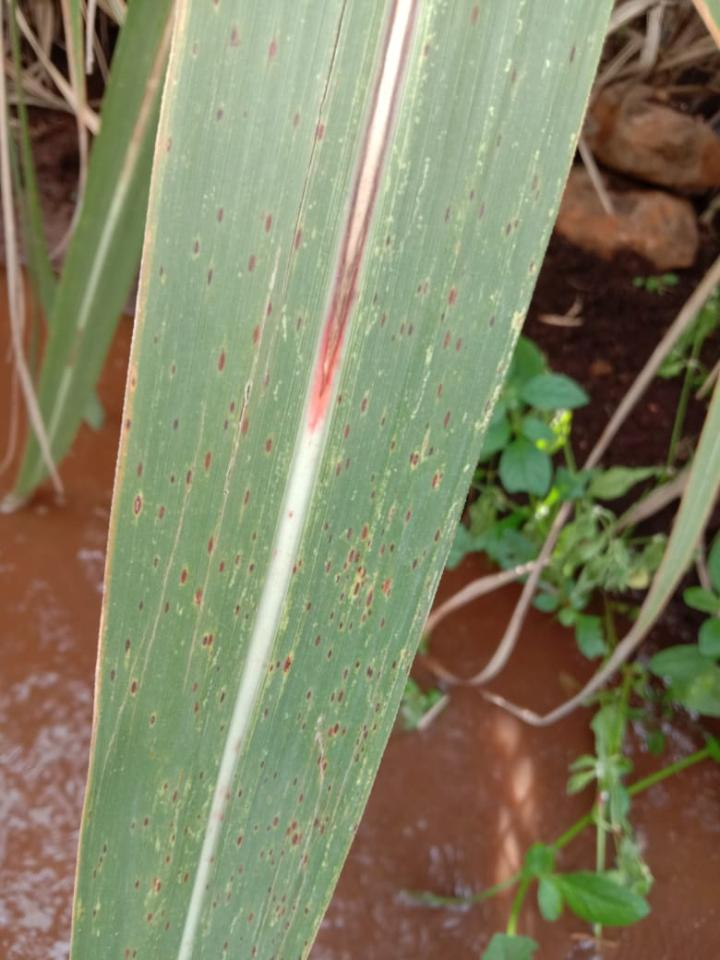RedRot: (305, 0, 423, 456)
Rust: (183, 273, 511, 959), (123, 205, 308, 660), (82, 766, 210, 959), (104, 632, 164, 735), (441, 187, 525, 243), (179, 674, 228, 715), (261, 30, 284, 70), (525, 168, 547, 201), (309, 114, 330, 148), (207, 99, 231, 128), (565, 36, 587, 67), (225, 23, 244, 54), (465, 5, 488, 28), (165, 356, 182, 384), (287, 107, 304, 134), (121, 411, 137, 438), (417, 38, 434, 59), (148, 329, 161, 352), (169, 415, 183, 434), (128, 370, 140, 392), (382, 232, 398, 248), (155, 262, 169, 280)
